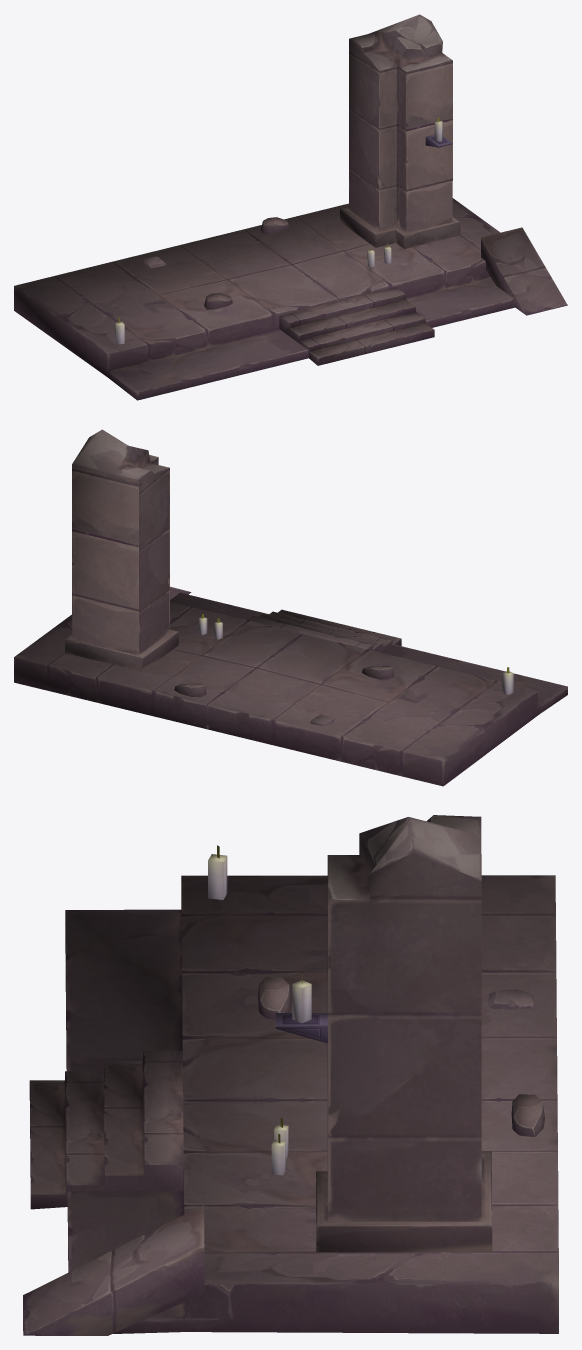
The model's file is jainzhufeiliao_01.FBX.
The picture shows the model from 3 angles, top to bottom: view 1: azimuth 30°, elevation 25°; view 2: azimuth 150°, elevation 25°; view 3: azimuth 270°, elevation 25°; orthographic projection. The views are drawn at different scales.
Parts seen in each view (by area): view 1: 对象002; view 2: 对象002; view 3: 对象002.
Part boxes in pixels (x1,y1,x2,y2): 对象002: [14, 14, 567, 400]; 对象002: [14, 429, 567, 786]; 对象002: [23, 815, 558, 1335].
Bounding box in the file's own units: 1135 × 602 × 626.
